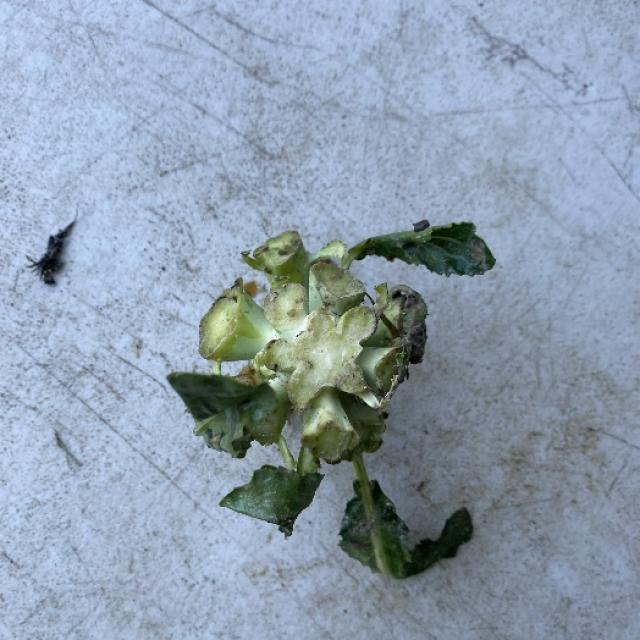organik: (156, 223, 506, 583)
